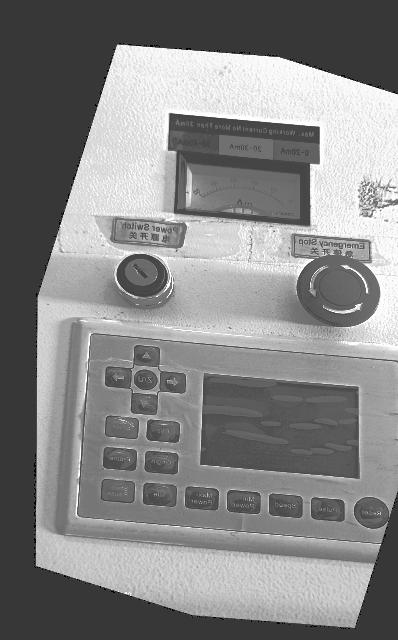Amp_Meter: (177, 154, 306, 221)
Display: (203, 374, 362, 477)
Down_button: (131, 393, 157, 414)
Emergency_Stop: (297, 255, 380, 327)
Enter_button: (106, 416, 138, 438)
Esc_button: (147, 420, 180, 443)
File_button: (143, 483, 177, 505)
Frame_button: (104, 448, 136, 469)
Left_button: (162, 374, 184, 392)
Max-Power_button: (185, 487, 219, 510)
Min-Power_button: (227, 491, 260, 513)
Origin_button: (145, 452, 178, 473)
Power_switch: (114, 253, 174, 309)
Pulse_button: (311, 498, 344, 521)
Reset_button: (354, 498, 389, 529)
Right_button: (105, 367, 130, 388)
Speed_button: (269, 495, 302, 517)
Start-Pause_button: (101, 480, 135, 501)
Up_button: (134, 345, 159, 365)
Z_U_button: (134, 370, 156, 389)
